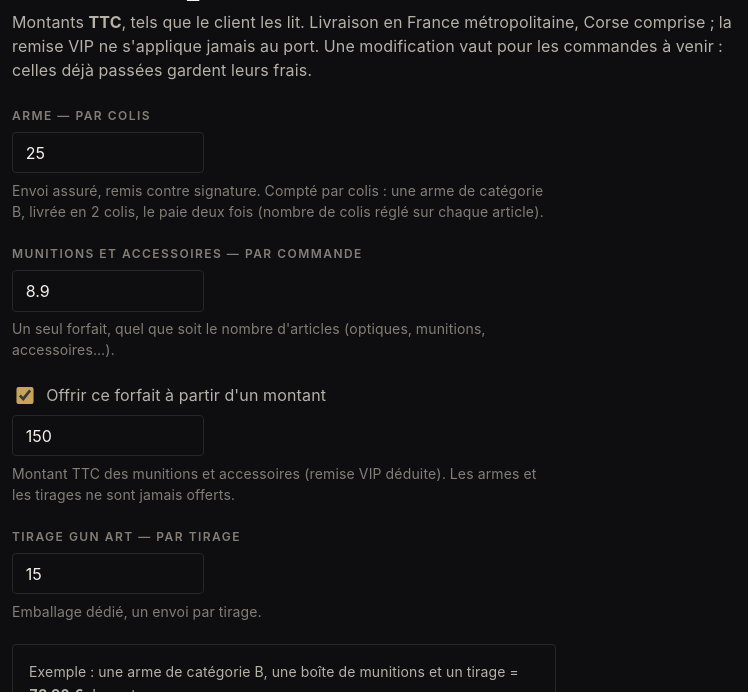
Test case: admin/livraison.vue (story 12.3) › saves the four amounts together
Replace the text in the 1st number field with "30" at (108, 153), box [12, 132, 204, 173]
(page scrolled)
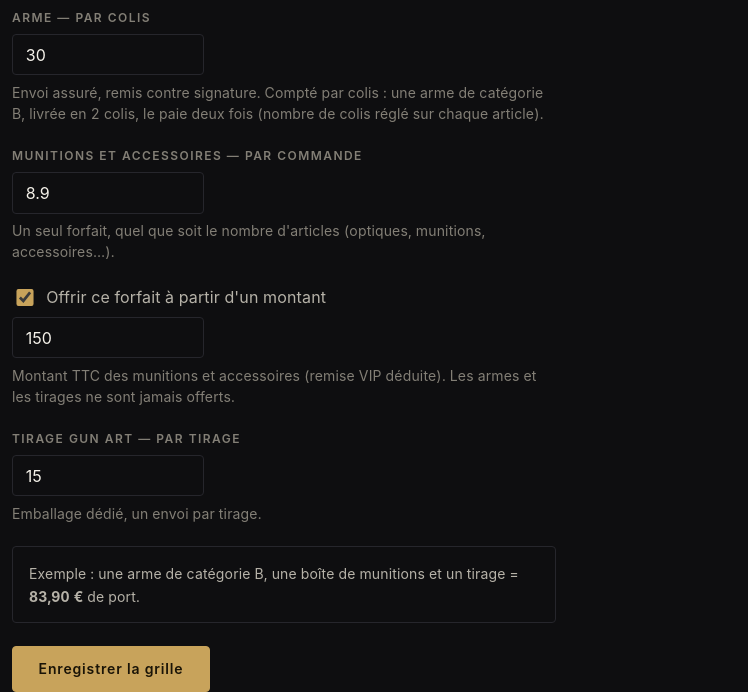
Submit the form
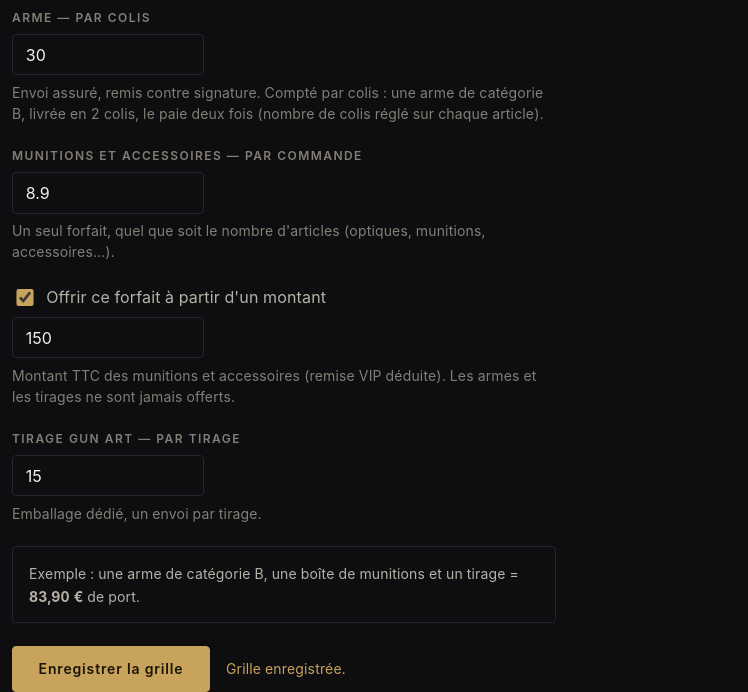
Expected: the message "Grille enregistrée." is shown, [226, 657, 346, 680]
